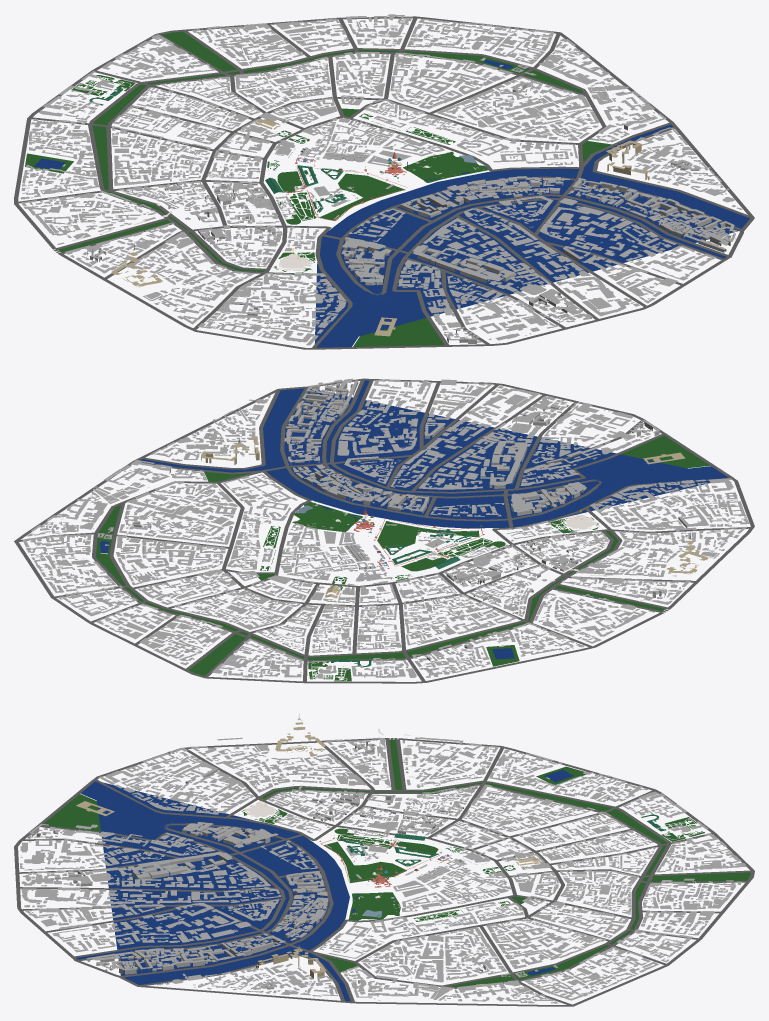
Rendered from PizdatayaRoof.fbx.
3 views of the same model, one above another, from view 1: azimuth 30°, elevation 25°; view 2: azimuth 150°, elevation 25°; view 3: azimuth 270°, elevation 25° (orthographic). The views are drawn at different scales.
Visible parts, largest first — view 1: hui; view 2: hui; view 3: hui.
Part boxes in pixels (bbox=[...]): hui: bbox=[14, 14, 754, 349]; hui: bbox=[14, 378, 754, 683]; hui: bbox=[14, 714, 754, 1006].
Size of the model in its own units: 413787 by 27473 by 481754.
